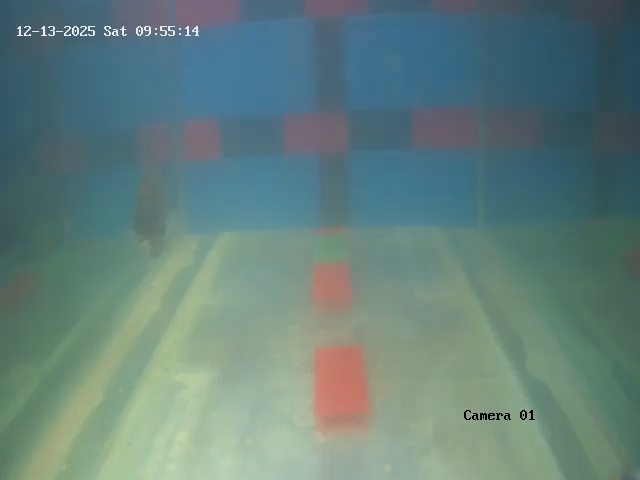fish: (118, 160, 186, 264)
